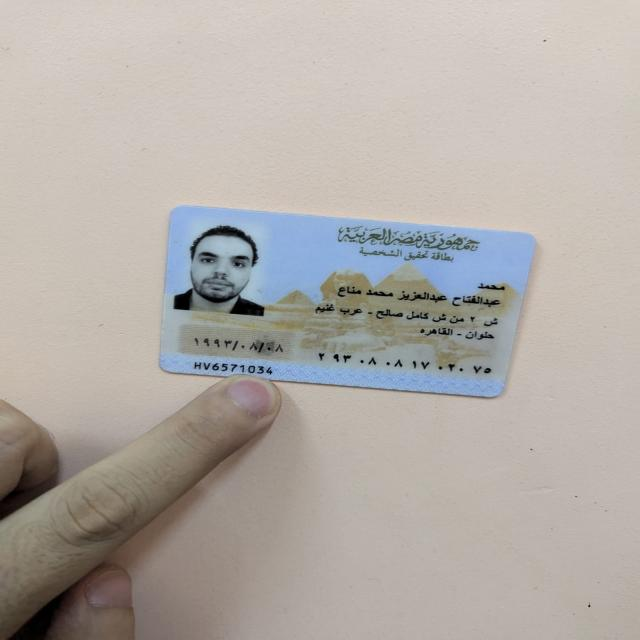ID-cards: (148, 201, 550, 411)
